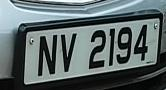1: (106, 23, 118, 69)
2: (88, 27, 106, 71)
4: (132, 18, 149, 66)
9: (115, 22, 133, 66)
N: (34, 29, 58, 80)
V: (58, 28, 79, 79)
